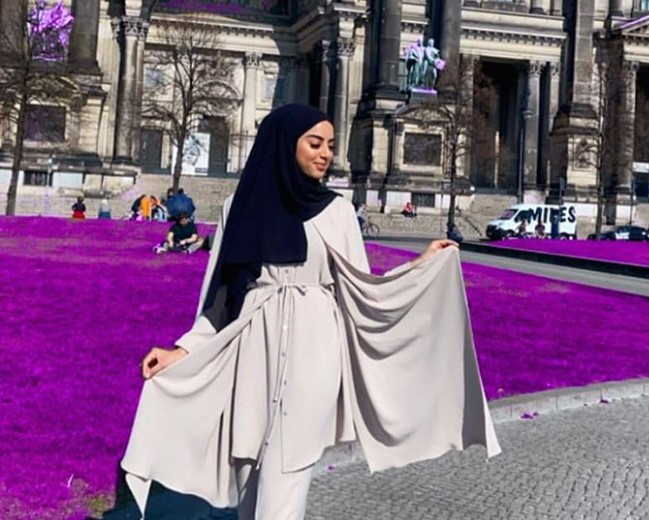face_no_mask: (288, 116, 340, 185)
